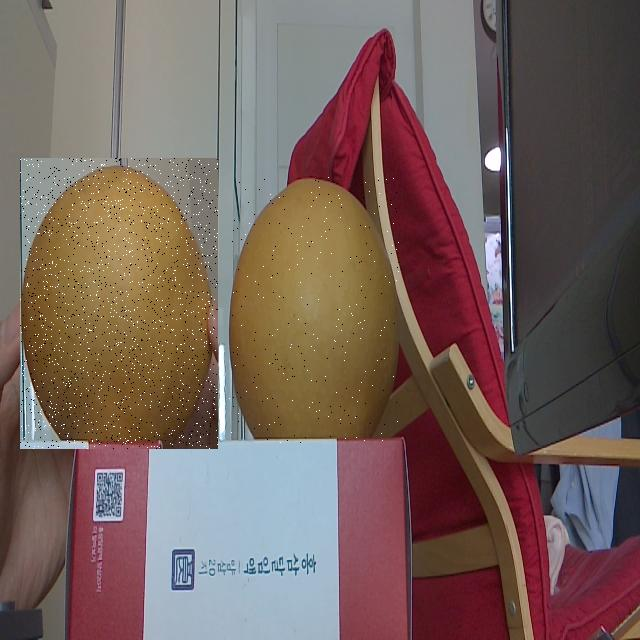pear: (20, 158, 218, 449), (229, 177, 399, 444)
